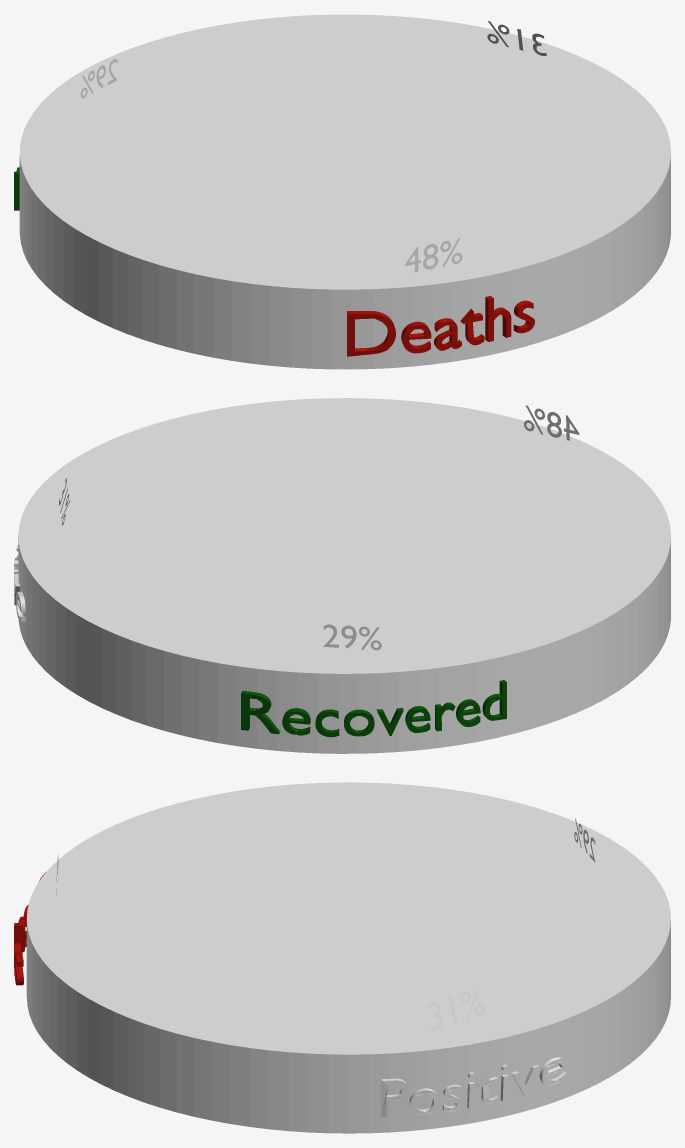
File: pie-chart.fbx
3 renders of one model, top to bottom at view 1: azimuth 30°, elevation 25°; view 2: azimuth 150°, elevation 25°; view 3: azimuth 270°, elevation 25°, orthographic.
Visible parts, largest first — view 1: Cylinder, Text.002, Text.003; view 2: Cylinder, Text.001, Text.003, Text.005; view 3: Cylinder, Text, Text.002, Text.004.
Boxes of the visible parts, x1,y1,x2,y2 form: Cylinder: (19, 14, 670, 369); Text.002: (347, 296, 534, 356); Text.003: (404, 238, 462, 272); Cylinder: (18, 398, 670, 753); Text.001: (241, 680, 506, 737); Text.003: (524, 405, 579, 440); Text.005: (323, 624, 381, 650); Cylinder: (26, 782, 670, 1133); Text: (381, 1057, 567, 1117); Text.002: (14, 872, 45, 985); Text.004: (427, 987, 485, 1029).
Size of the model in its own units: 846 by 160 by 859.
